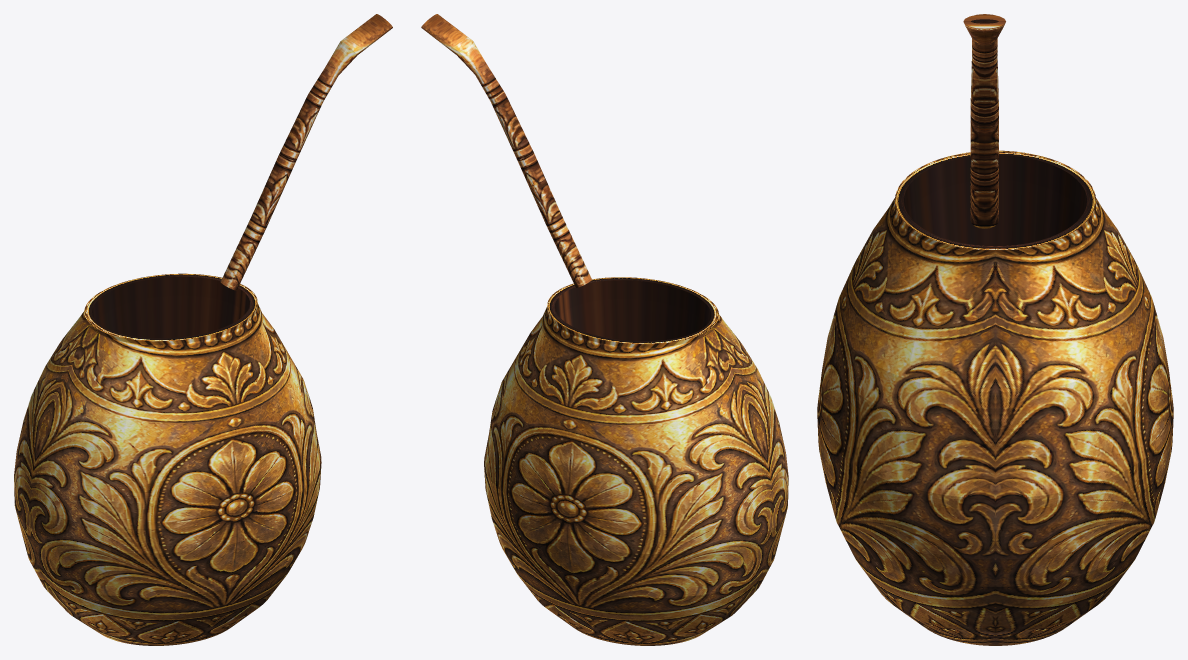
The model's file is gold.obj.
The picture shows the model from 3 angles, left to right: view 1: azimuth 30°, elevation 25°; view 2: azimuth 150°, elevation 25°; view 3: azimuth 270°, elevation 25°; orthographic projection. The views are drawn at different scales.
Visible parts, largest first — view 1: closed_porongo_shell, fixed_bronze_bombilla; view 2: closed_porongo_shell, fixed_bronze_bombilla; view 3: closed_porongo_shell, fixed_bronze_bombilla.
Part boxes in pixels (x1=…): closed_porongo_shell: x1=14, y1=273, x2=321, y2=645; fixed_bronze_bombilla: x1=220, y1=14, x2=392, y2=290; closed_porongo_shell: x1=484, y1=277, x2=788, y2=645; fixed_bronze_bombilla: x1=421, y1=14, x2=591, y2=287; closed_porongo_shell: x1=817, y1=150, x2=1173, y2=645; fixed_bronze_bombilla: x1=963, y1=14, x2=1005, y2=228.
Size of the model in its own units: 12.92 by 19.5 by 8.59.
Materials: 1 (1 with a texture image).
